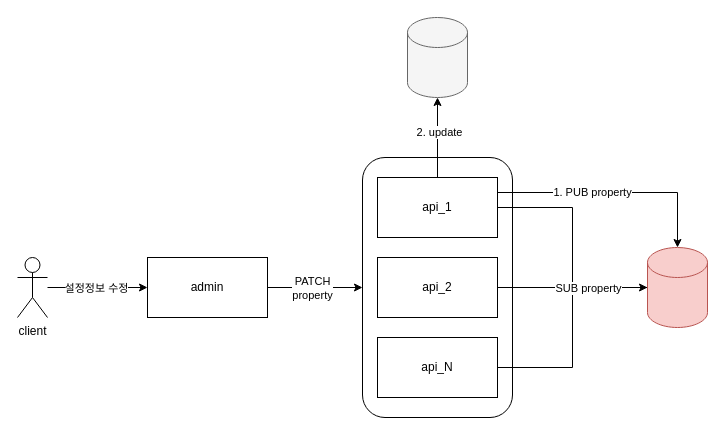
The diagram is 725 pixels wide and 435 high, and some of its shapes have lost their labels. Each missing label, with the box of its shape:
mysql: (406, 16, 468, 98)
redis: (646, 246, 708, 328)
